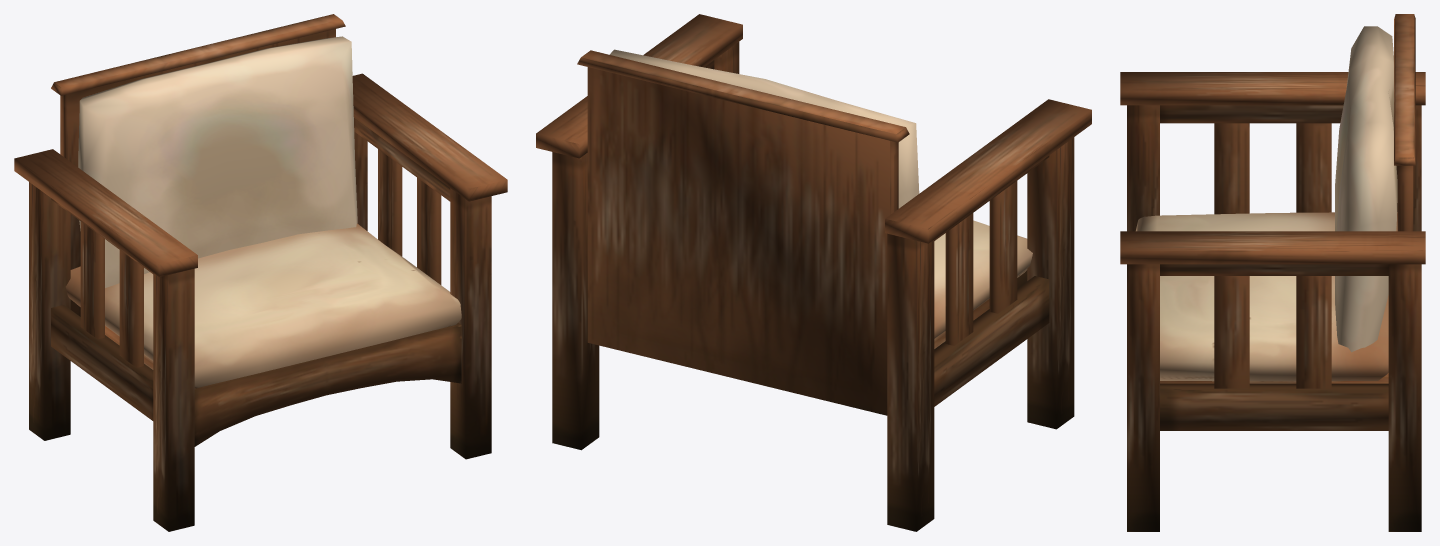
The model's file is Chair_1.fbx.
The picture shows the model from 3 angles, left to right: view 1: azimuth 30°, elevation 25°; view 2: azimuth 150°, elevation 25°; view 3: azimuth 270°, elevation 25°; orthographic projection. The views are drawn at different scales.
Visible parts, largest first — view 1: Cube; view 2: Cube; view 3: Cube.
Boxes of the visible parts, x1,y1,x2,y2 form: Cube: [14, 14, 507, 531]; Cube: [536, 14, 1091, 531]; Cube: [1120, 14, 1425, 531].
Bounding box in the file's own units: 377 × 356 × 271.
